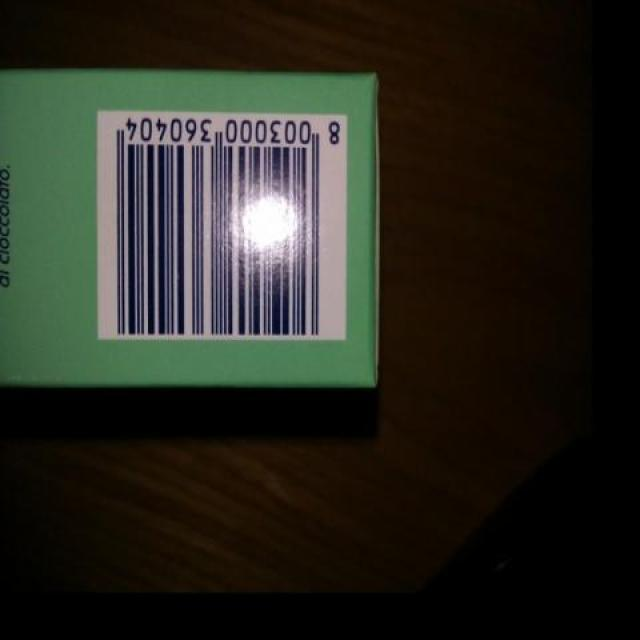Barcode: (97, 109, 347, 338)
